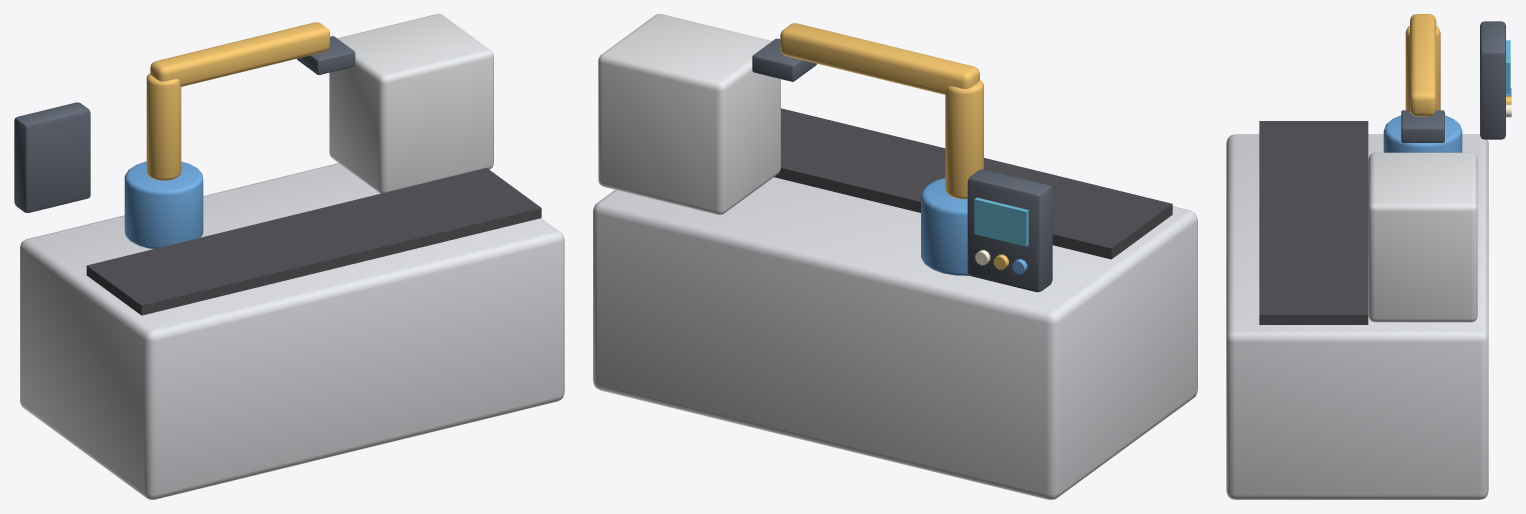
The model's file is Pakowarka.fbx.
3 views of the same model, side by side, from view 1: azimuth 30°, elevation 25°; view 2: azimuth 150°, elevation 25°; view 3: azimuth 270°, elevation 25° (orthographic). The views are drawn at different scales.
Visible parts, largest first — view 1: Maszyna_Pakowarka_Korpus, Maszyna_Pakowarka_Ramie; view 2: Maszyna_Pakowarka_Korpus, Maszyna_Pakowarka_Ramie; view 3: Maszyna_Pakowarka_Korpus, Maszyna_Pakowarka_Ramie.
Part boxes in pixels (x1=…): Maszyna_Pakowarka_Korpus: x1=14, y1=14, x2=564, y2=499; Maszyna_Pakowarka_Ramie: x1=146, y1=22, x2=355, y2=180; Maszyna_Pakowarka_Korpus: x1=593, y1=14, x2=1197, y2=499; Maszyna_Pakowarka_Ramie: x1=752, y1=23, x2=983, y2=199; Maszyna_Pakowarka_Korpus: x1=1226, y1=21, x2=1511, y2=499; Maszyna_Pakowarka_Ramie: x1=1401, y1=14, x2=1444, y2=142.
Size of the model in its own units: 2.2 by 1.87 by 1.31.
